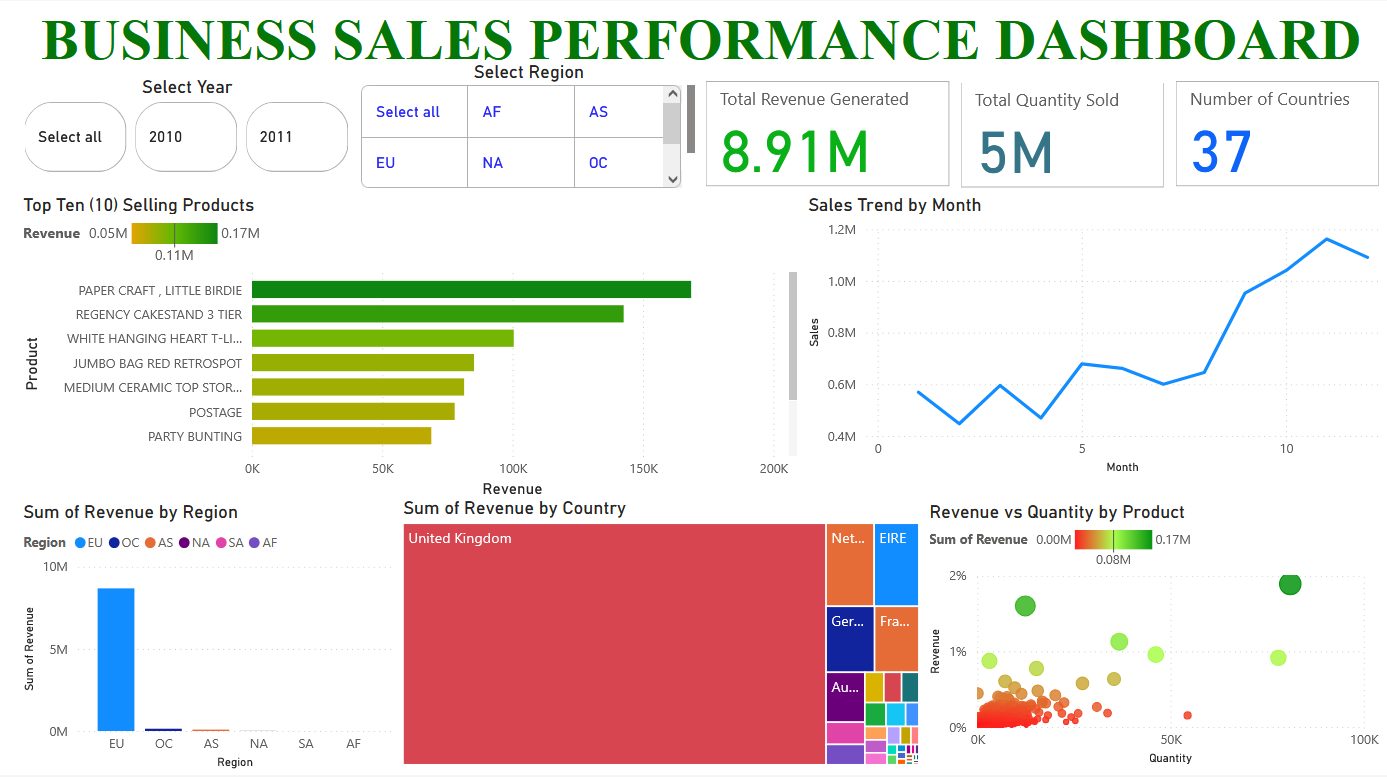

What the dashboard file says about the page in this screenshot:
{"tool":"powerbi","page":{"name":"Sales_Performance_Dashboard","canvas":[1280,720],"ordinal":0},"visuals":[{"type":"textbox","box":[9.6,0,1270.7,86.4],"z":0},{"type":"lineStackedColumnComboChart","fields":{"Category":["Sheet1.Region"],"Y":["Sum(Sheet1.Revenue)"],"Series":["Sheet1.Region"]},"box":[9.6,465.2,352.7,253.9],"z":1000},{"type":"clusteredBarChart","title":"Top Ten (10) Selling Products","fields":{"Y":["Sum(Sheet1.Revenue)"],"Category":["Sheet1.Description"]},"box":[9.8,178.5,730,287.4],"z":2000},{"type":"lineChart","title":"Sales Trend  by Month","fields":{"Y":["Sum(Sheet1.Revenue)"],"Category":["Sheet1.Month"]},"box":[739.8,178.5,540.5,265.4],"z":3000},{"type":"cardVisual","fields":{"Data":["Sum(Sheet1.Revenue)"]},"box":[621.4,70,237.1,108.6],"z":4000},{"type":"cardVisual","fields":{"Data":["Count(online_retail_data.Country)"]},"box":[1056.6,70,199,108.4],"z":5000},{"type":"cardVisual","fields":{"Data":["Sum(Sheet1.Quantity)"]},"box":[858.6,70,198.6,108.6],"z":6000},{"type":"advancedSlicerVisual","fields":{"Values":["Sheet1.Year"]},"box":[10,70,312.9,94.3],"z":7000},{"type":"advancedSlicerVisual","fields":{"Values":["Sheet1.Region"]},"box":[322.9,55.7,291.4,122.9],"z":8000},{"type":"scatterChart","title":"Revenue vs Quantity by Product","fields":{"X":["Sum(Sheet1.Quantity)"],"Y":["Divide(Sum(Sheet1.Revenue), ScopedEval(Sum(Sheet1.Revenue), []))"],"Category":["Sheet1.Product"],"Size":["Divide(Sum(Sheet1.Revenue), ScopedEval(Sum(Sheet1.Revenue), []))"]},"box":[852.1,465.2,428.1,249.7],"z":9000},{"type":"treemap","fields":{"Group":["online_retail_data.Country"],"Values":["Sum(online_retail_data.Revenue)"]},"box":[362.3,461.1,489.9,253.9],"z":10000}]}

Visuals, with their boxes in screenshot pixels (x1, y1, x2, y2), scaled from the page's 1280x720 canvas onto the 1387x777 screenshot:
textbox: Rect(10, 0, 1386, 93)
lineStackedColumnComboChart - Sheet1.Region x Sum(Sheet1.Revenue): Rect(10, 502, 393, 776)
"Top Ten (10) Selling Products" clusteredBarChart: Rect(11, 193, 802, 503)
"Sales Trend  by Month" lineChart: Rect(802, 193, 1386, 479)
cardVisual - Sum(Sheet1.Revenue): Rect(673, 76, 930, 193)
cardVisual - Count(online_retail_data.Country): Rect(1145, 76, 1361, 193)
cardVisual - Sum(Sheet1.Quantity): Rect(930, 76, 1146, 193)
advancedSlicerVisual - Sheet1.Year: Rect(11, 76, 350, 177)
advancedSlicerVisual - Sheet1.Region: Rect(350, 60, 666, 193)
"Revenue vs Quantity by Product" scatterChart: Rect(923, 502, 1386, 771)
treemap - online_retail_data.Country x Sum(online_retail_data.Revenue): Rect(393, 498, 923, 772)
